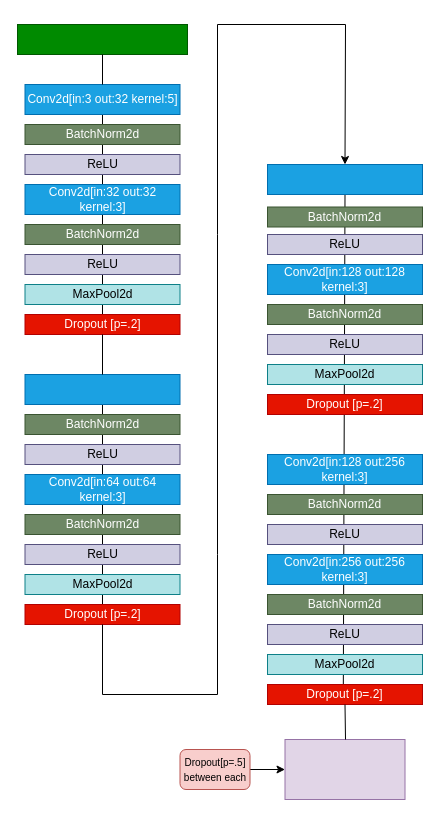
Image size: 440x817. Some labels were removed from this diagram. Each missing label, with the centre of its shape:
Conv2d[in:32 out:64 kernel:3]: [102,389]
Conv2d[in:64 out:128 kernel:3]: [344,179]
FC Layers [1024 to 512 to 256 to 10 to 1]: [344,769]
Input [RGB]: [102,39]
